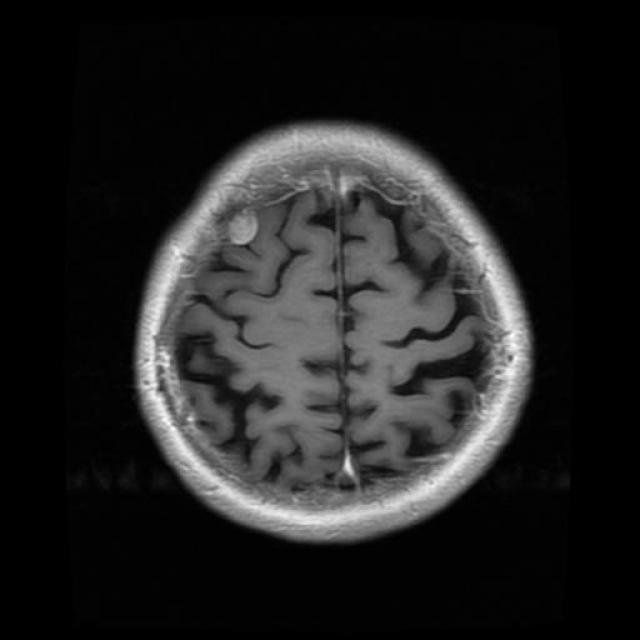meningioma: (228, 211, 259, 245)
